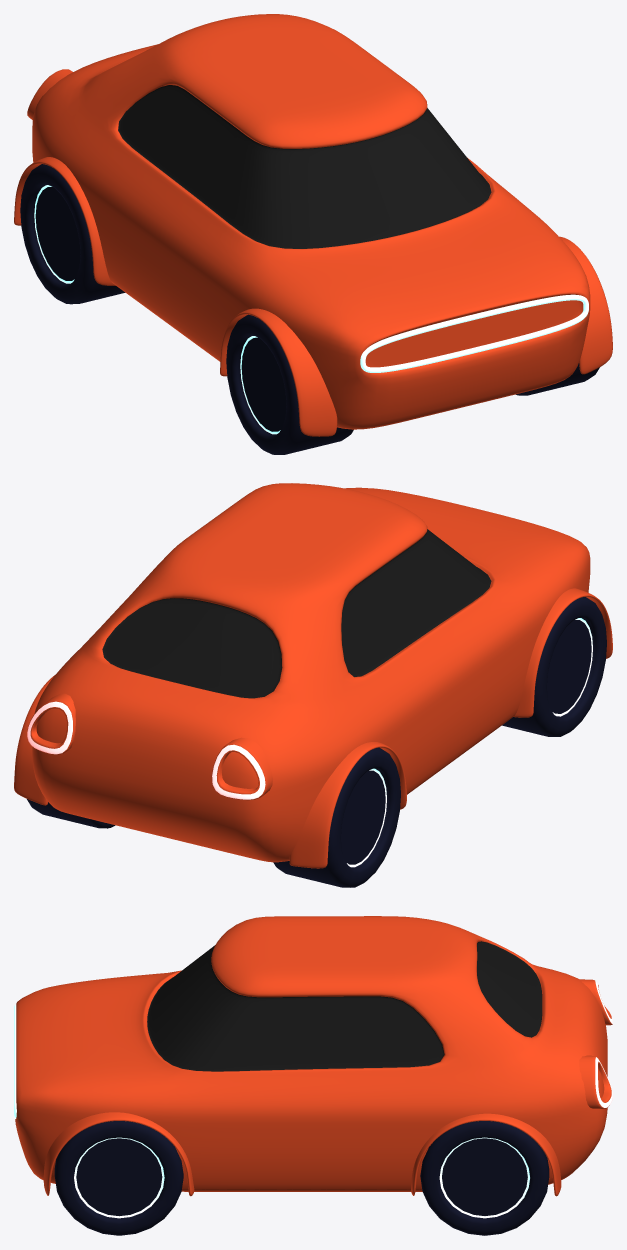
File: car.glb
3 renders of one model, top to bottom at view 1: azimuth 30°, elevation 25°; view 2: azimuth 150°, elevation 25°; view 3: azimuth 270°, elevation 25°, orthographic. The views are drawn at different scales.
Visible parts, largest first — view 1: Car, Circle; view 2: Car, Circle; view 3: Car, Circle.
Boxes of the visible parts, box(x1,y1,x2,y2) form: Car: box(14, 14, 612, 436); Circle: box(20, 164, 599, 454); Car: box(14, 483, 612, 868); Circle: box(27, 597, 606, 887); Car: box(14, 916, 612, 1196); Circle: box(54, 1121, 549, 1235).
Bounding box in the file's own units: 0.5553 × 0.4267 × 1.03.
